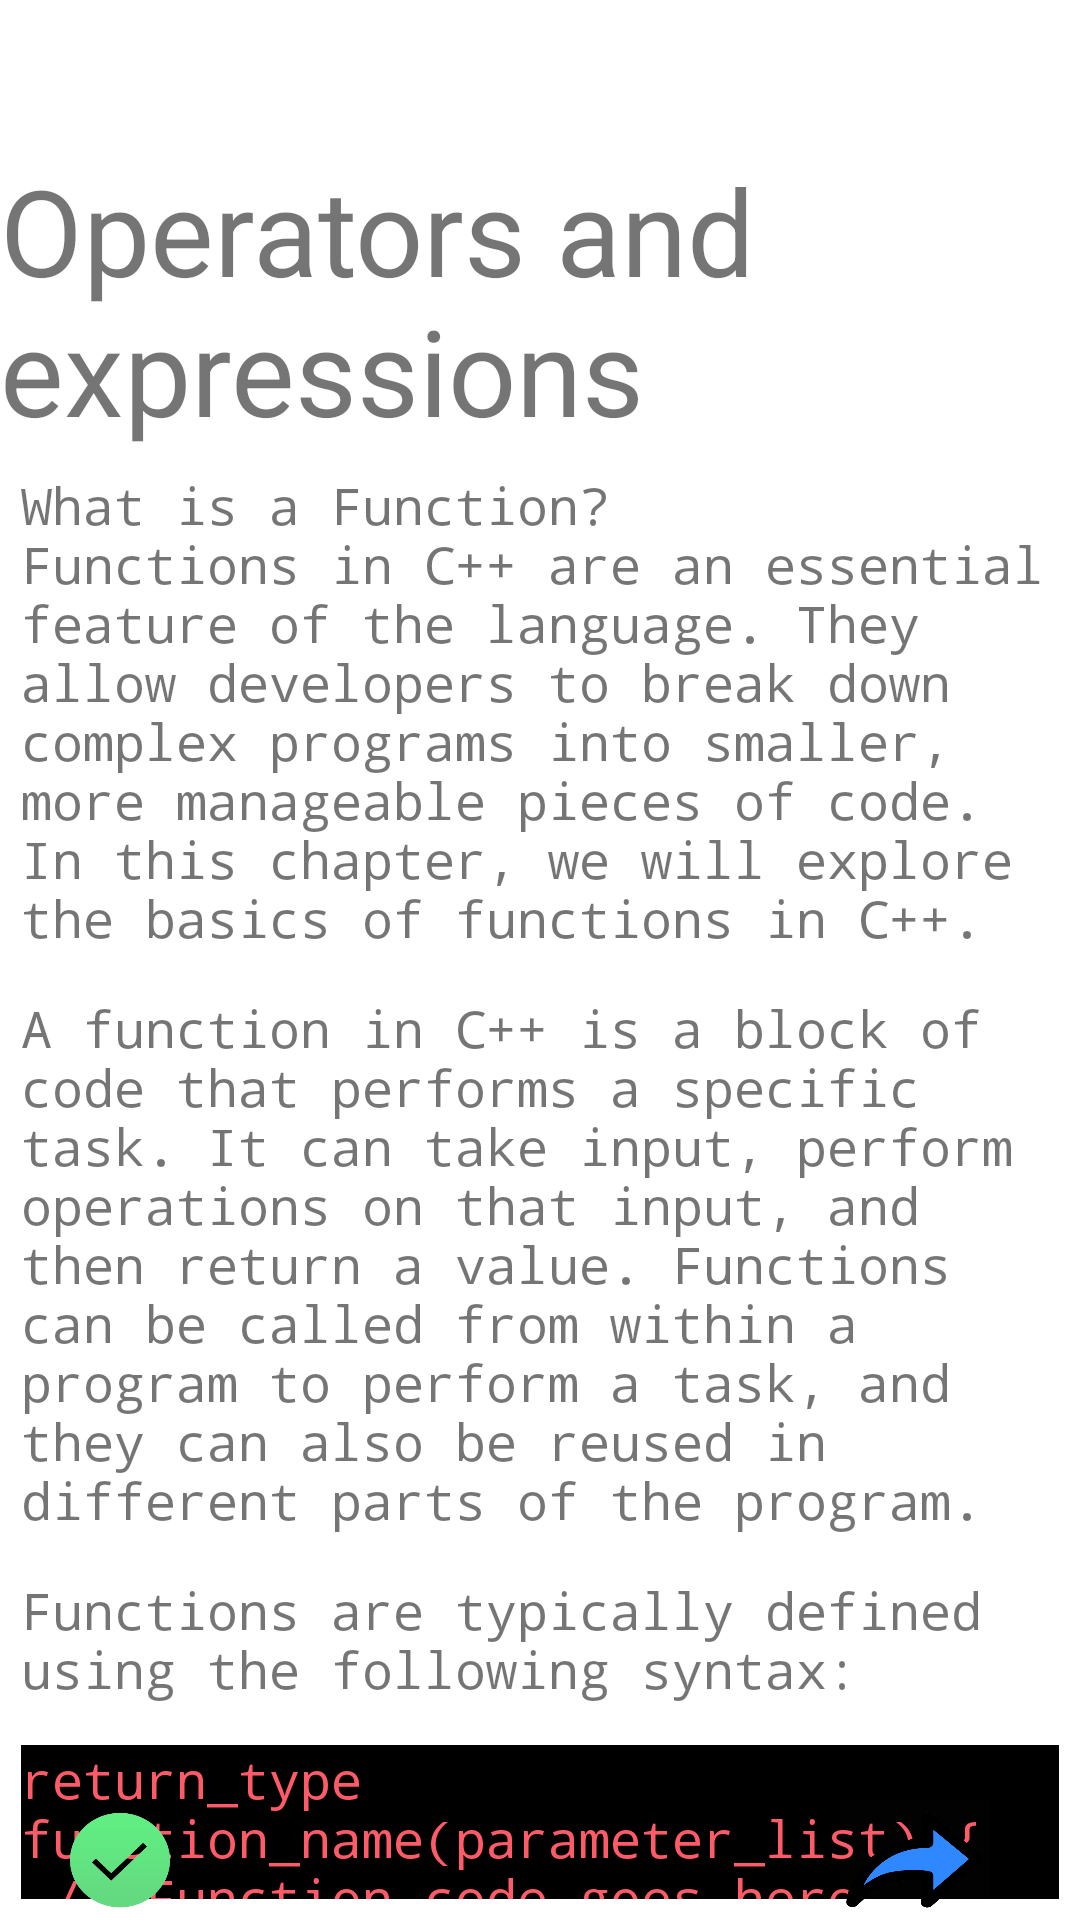

Icons on this 1080x1920 Android screen, each with its box as (x1, y1, x2, y2):
next: (840, 1822, 990, 1920)
